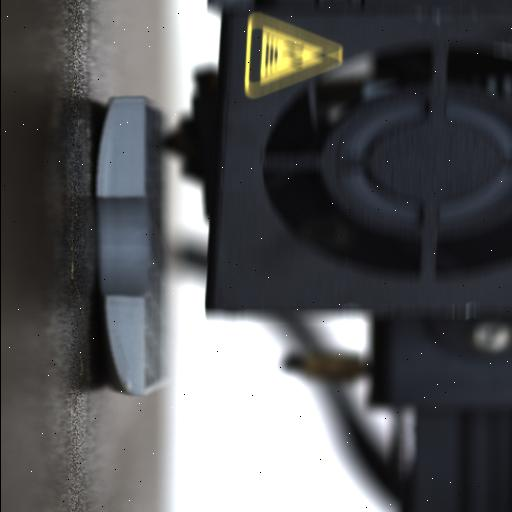warp: (89, 296, 145, 400), (95, 94, 143, 172)
